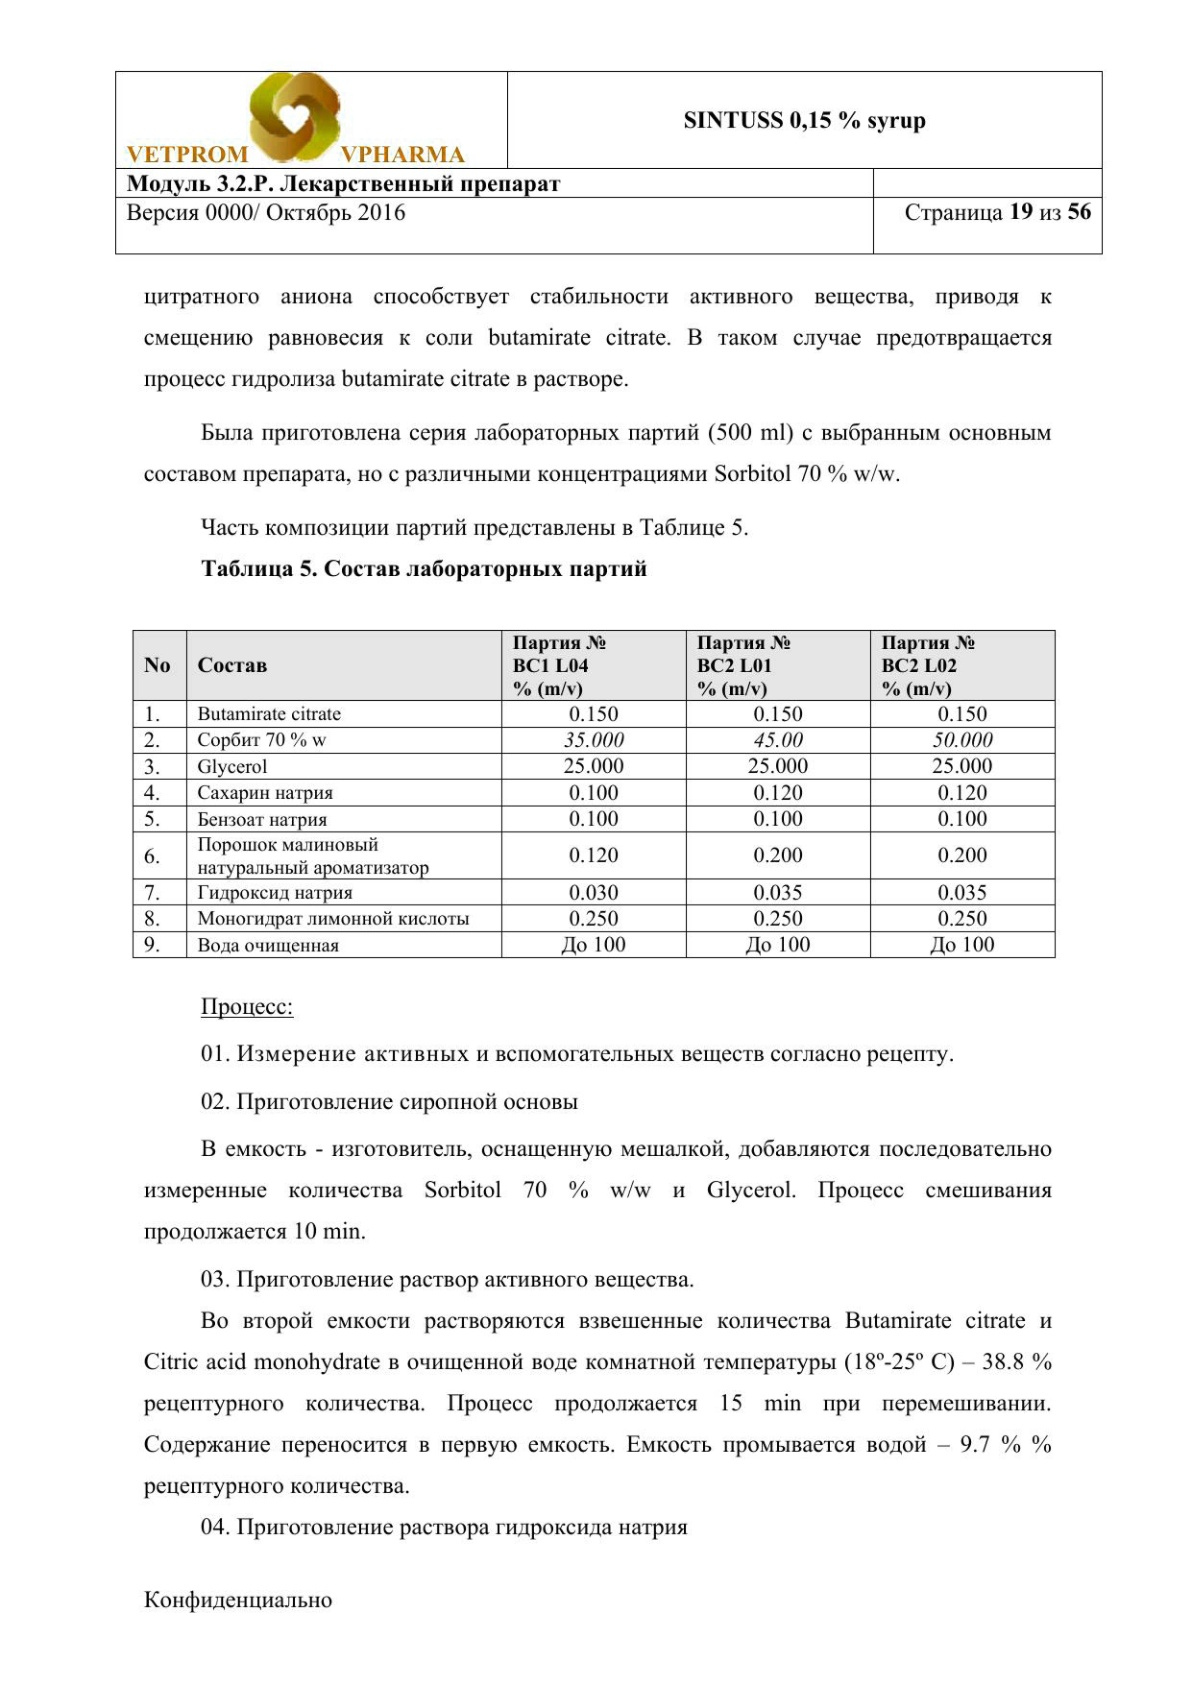full_lined: (132, 630, 1057, 960)
merged_cells: (114, 70, 1104, 255)
